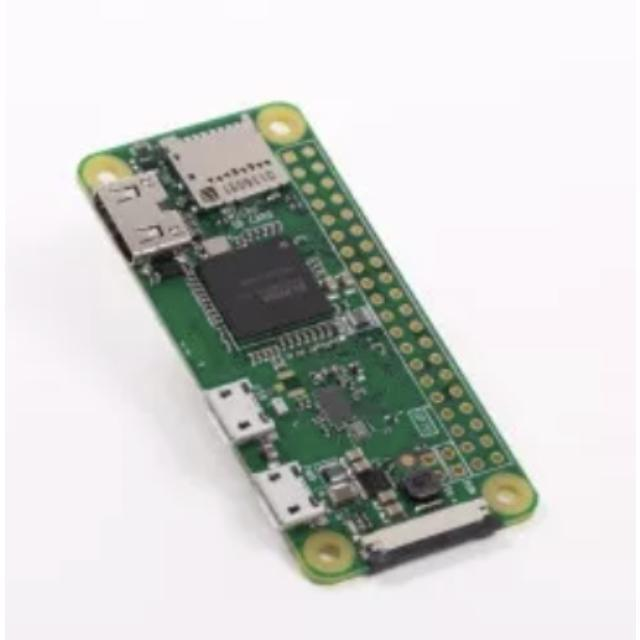Raspberry-Pi-Zero-W: (79, 103, 539, 583)
